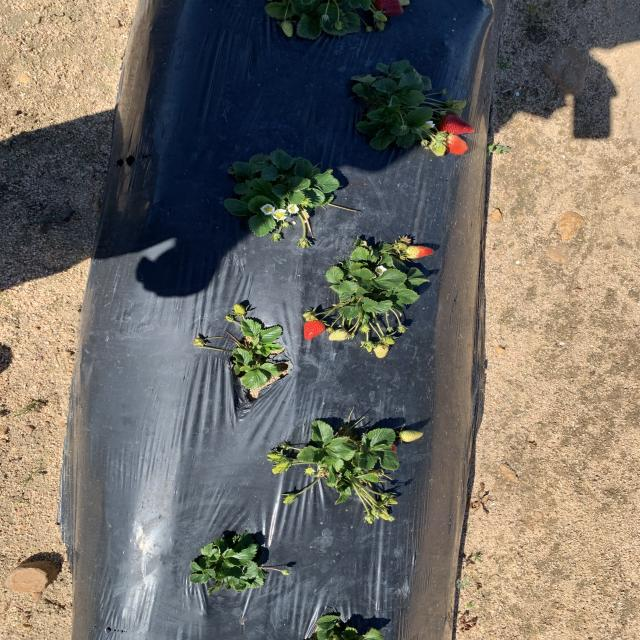unripe: (440, 113, 475, 135), (371, 0, 408, 18), (442, 133, 468, 156), (403, 242, 434, 260), (303, 318, 326, 340), (378, 440, 398, 454)
